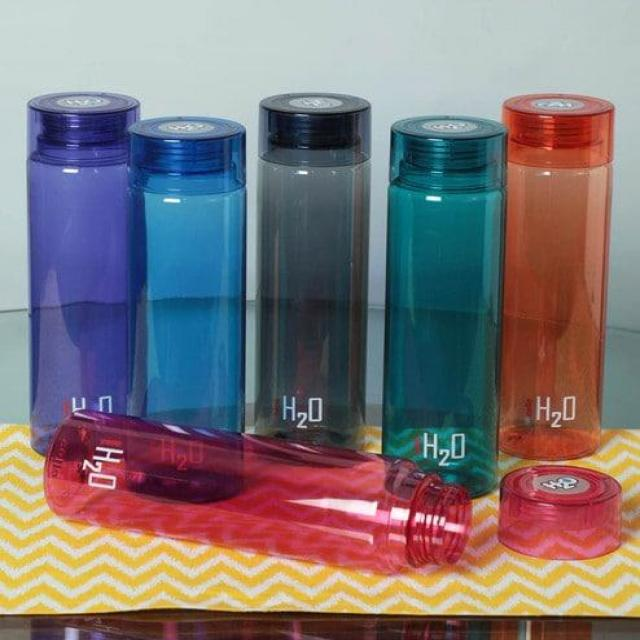plastic_bottle: (41, 420, 451, 576), (133, 122, 252, 479), (260, 106, 379, 458), (28, 100, 142, 450), (396, 131, 497, 497), (509, 110, 606, 459)
